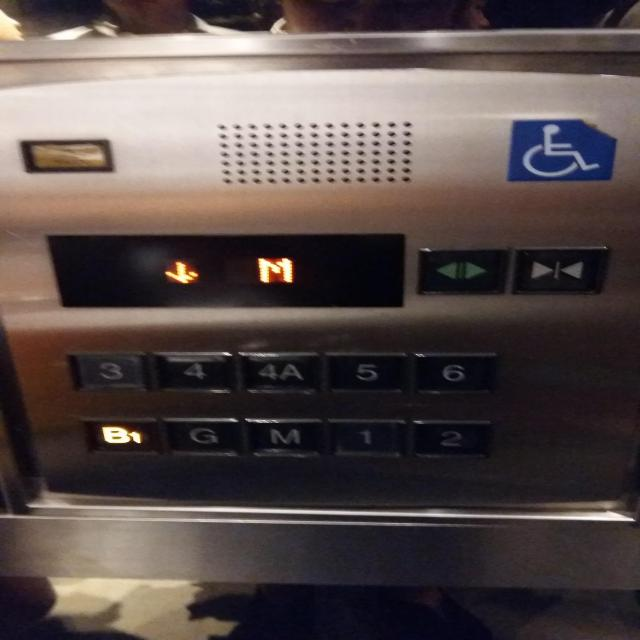1: (322, 418, 406, 462)
2: (406, 417, 494, 461)
3: (64, 350, 152, 396)
4: (151, 349, 236, 396)
4A: (236, 349, 321, 396)
5: (320, 349, 408, 397)
6: (408, 350, 498, 396)
B1: (78, 418, 157, 459)
CH: (504, 114, 619, 185)
G: (159, 416, 240, 461)
M: (240, 417, 323, 462)
close: (512, 246, 612, 296)
led: (42, 232, 408, 311)
open: (413, 246, 510, 296)
text_blur: (14, 136, 117, 175)
